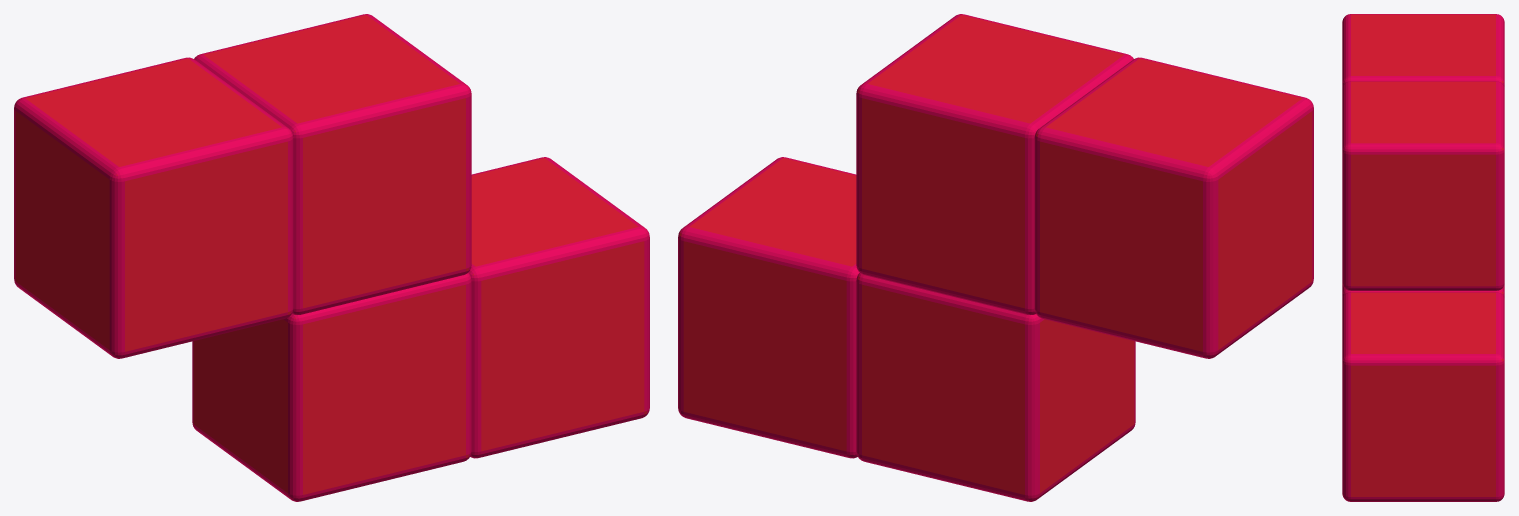
File: red.glb
The picture shows the model from 3 angles, left to right: view 1: azimuth 30°, elevation 25°; view 2: azimuth 150°, elevation 25°; view 3: azimuth 270°, elevation 25°; orthographic projection. The views are drawn at different scales.
Visible parts, largest first — view 1: Cube.001, Cube.004, Cube.003, Cube.002; view 2: Cube.001, Cube.004, Cube.003, Cube.002; view 3: Cube.004, Cube.002, Cube.001, Cube.003.
Part boxes in pixels (x1=…): Cube.001: x1=14, y1=57, x2=293, y2=358; Cube.004: x1=194, y1=14, x2=471, y2=314; Cube.003: x1=192, y1=273, x2=471, y2=501; Cube.002: x1=468, y1=157, x2=649, y2=458; Cube.001: x1=1034, y1=57, x2=1313, y2=358; Cube.004: x1=856, y1=14, x2=1133, y2=314; Cube.003: x1=856, y1=273, x2=1135, y2=501; Cube.002: x1=678, y1=157, x2=859, y2=458; Cube.004: x1=1342, y1=81, x2=1504, y2=290; Cube.002: x1=1342, y1=292, x2=1504, y2=501; Cube.001: x1=1342, y1=14, x2=1504, y2=88; Cube.003: x1=1342, y1=284, x2=1504, y2=298.
Bounding box in the file's own units: 3.02 × 2.02 × 1.02.
